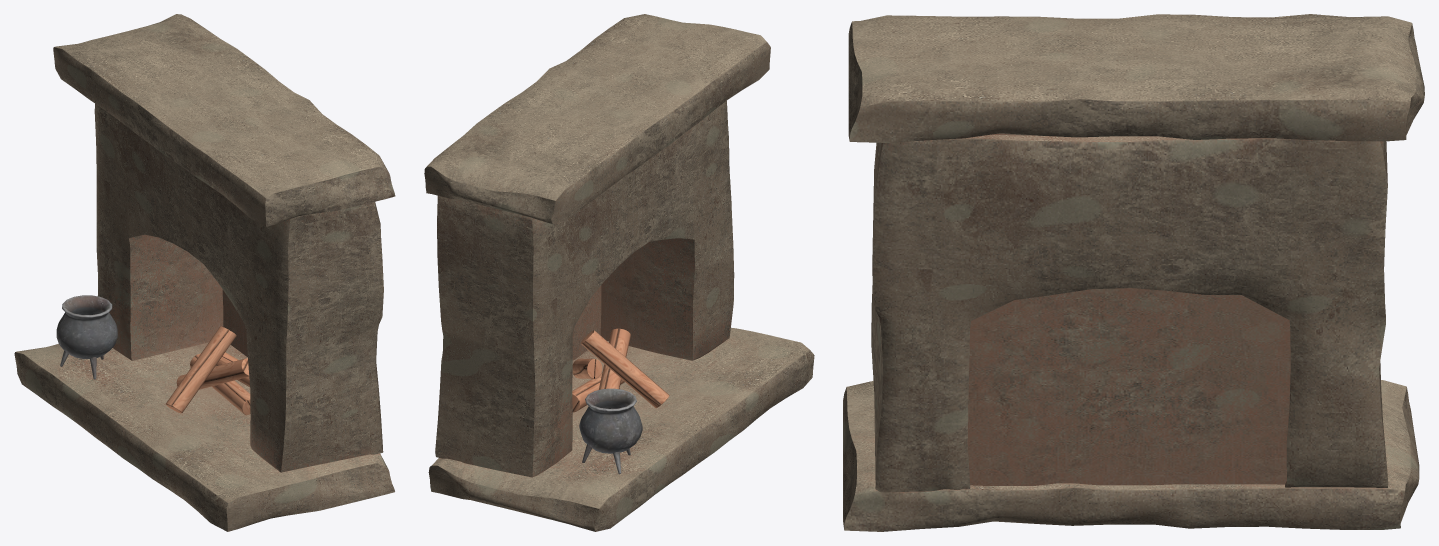
File: 3DArt_Props_Fireplace_Model_Amanda_V02.fbx
3 renders of one model, left to right at view 1: azimuth 30°, elevation 25°; view 2: azimuth 150°, elevation 25°; view 3: azimuth 270°, elevation 25°, orthographic. The views are drawn at different scales.
Parts seen in each view (by area): view 1: Object; view 2: Object; view 3: Object.
Part boxes in pixels (left/top/right/bottom): Object: left=14, top=14, right=395, bottom=531; Object: left=424, top=14, right=814, bottom=531; Object: left=843, top=14, right=1424, bottom=531.
Bounding box in the file's own units: 103 × 182 × 222.
